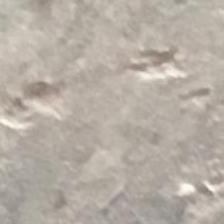Non_Crack: (34, 33, 218, 195)
